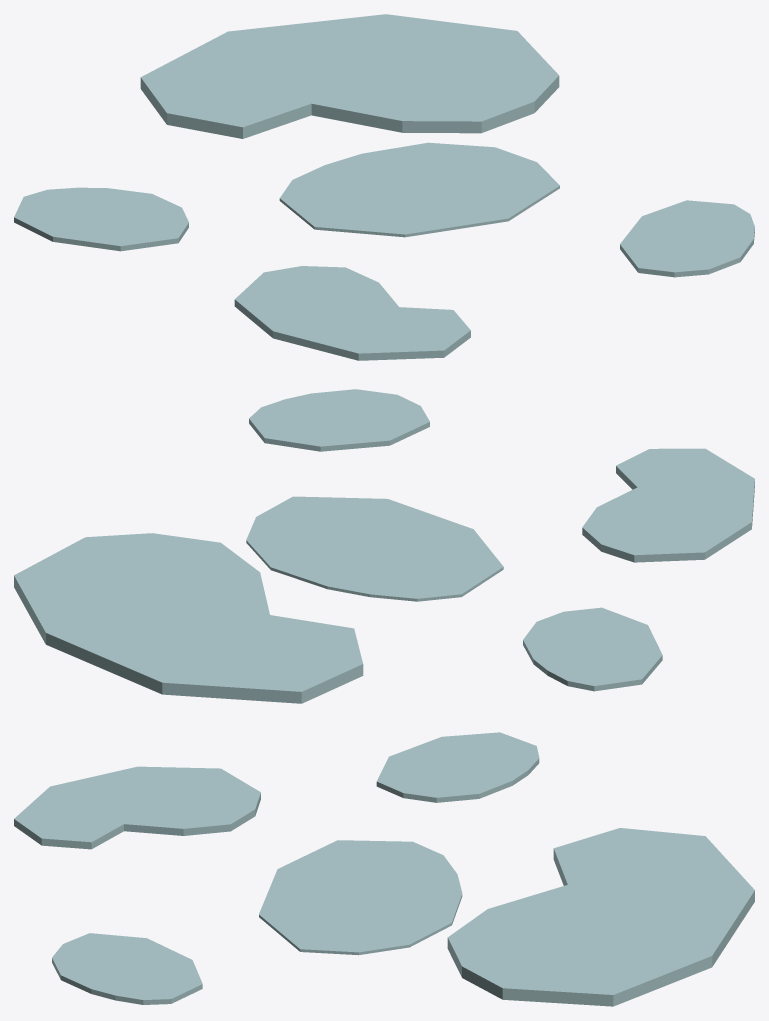
The model's file is tiles.fbx.
3 renders of one model, top to bottom at view 1: azimuth 30°, elevation 25°; view 2: azimuth 150°, elevation 25°; view 3: azimuth 270°, elevation 25°, orthographic. The views are drawn at different scales.
Visible parts, largest first — view 1: tiles; view 2: tiles; view 3: tiles.
Part boxes in pixels (x1,y1,x2,y2): tiles: (14,14,754,360); tiles: (14,389,754,703); tiles: (14,732,754,1006).
Bounding box in the file's own units: 175 × 3.88 × 203.
